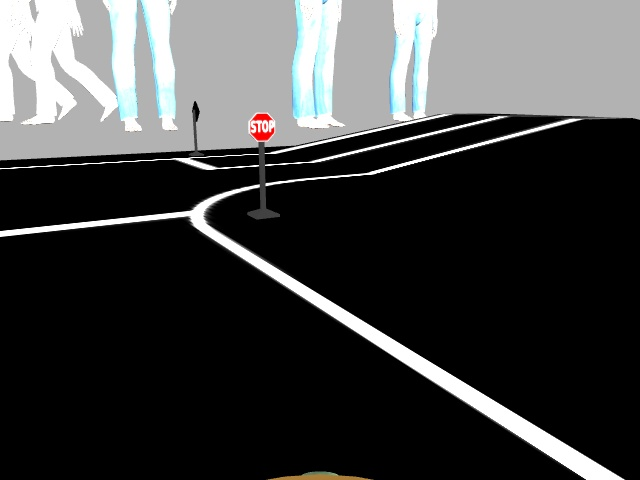Stop: (243, 109, 278, 141)
